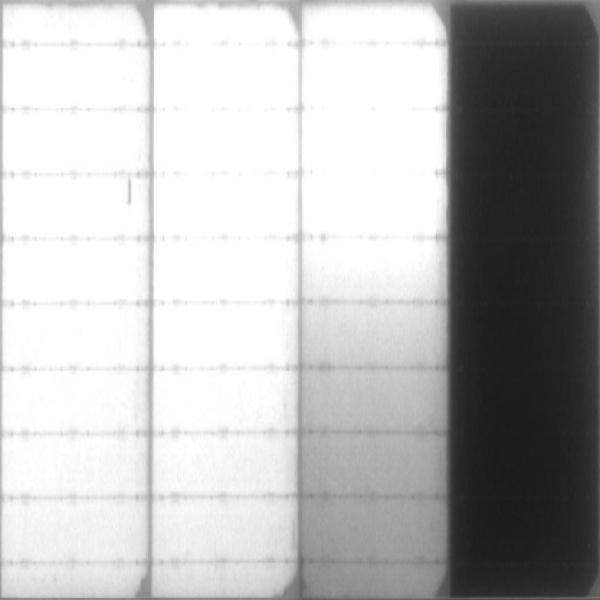hot_spot: (310, 49, 442, 103), (162, 49, 291, 104), (165, 308, 290, 362), (13, 244, 140, 297), (165, 180, 292, 233), (15, 52, 142, 103), (310, 116, 441, 164), (14, 116, 139, 166), (164, 247, 289, 297), (309, 178, 429, 228), (14, 437, 129, 488), (168, 119, 292, 166), (16, 312, 133, 360), (16, 380, 138, 425), (18, 508, 132, 556), (165, 443, 283, 489), (13, 184, 123, 232), (164, 375, 271, 424), (166, 17, 281, 37)
no_electricity: (449, 6, 600, 600)
